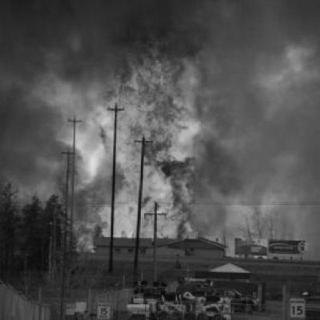Smoke: (1, 1, 91, 195)
